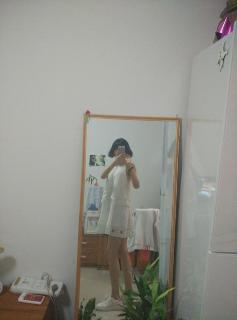skirt: (97, 196, 135, 238)
vest dress: (101, 163, 132, 207)
